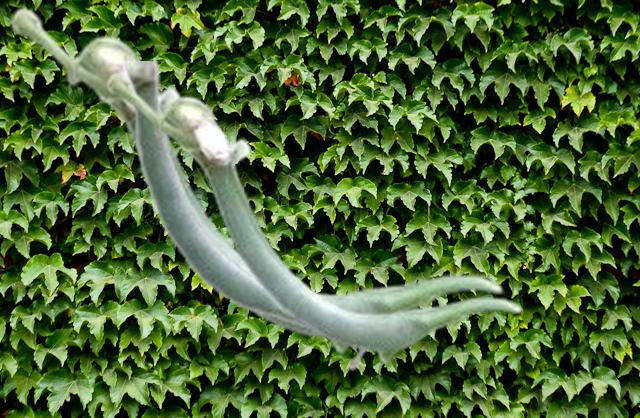french_bean: (9, 5, 503, 354), (105, 70, 522, 364), (123, 61, 369, 372)
